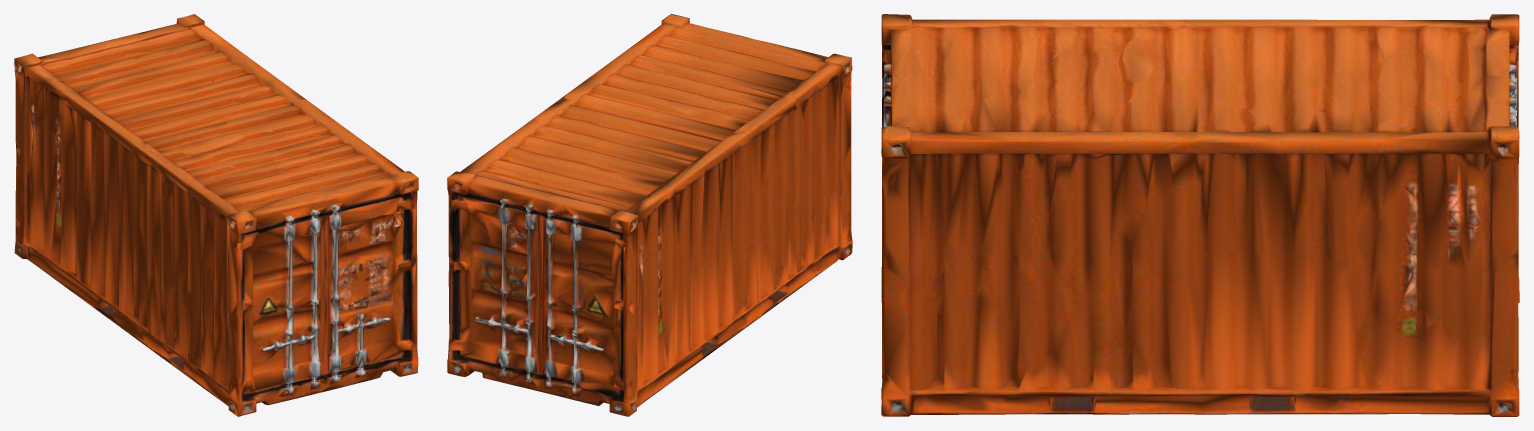
Rendered from veh-container2.glb.
3 renders of one model, left to right at view 1: azimuth 30°, elevation 25°; view 2: azimuth 150°, elevation 25°; view 3: azimuth 270°, elevation 25°, orthographic. The views are drawn at different scales.
Visible parts, largest first — view 1: tripo_node_941cd7c1-ad35-4187-b023-4a96e5cba048; view 2: tripo_node_941cd7c1-ad35-4187-b023-4a96e5cba048; view 3: tripo_node_941cd7c1-ad35-4187-b023-4a96e5cba048.
Part boxes in pixels (x1,y1,x2,y2): tripo_node_941cd7c1-ad35-4187-b023-4a96e5cba048: (14, 14, 418, 416); tripo_node_941cd7c1-ad35-4187-b023-4a96e5cba048: (447, 14, 852, 416); tripo_node_941cd7c1-ad35-4187-b023-4a96e5cba048: (881, 14, 1519, 416).
Size of the model in its own units: 0.4583 by 0.4721 by 0.9789.
Materials: 1 (1 with a texture image).
